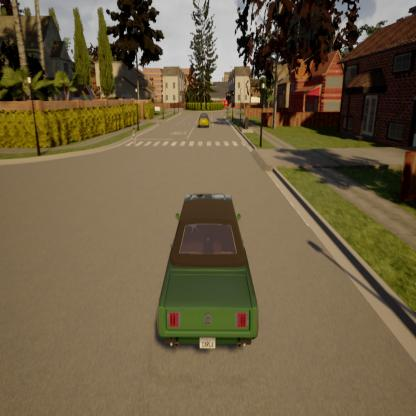Cars: (152, 189, 262, 359), (196, 112, 211, 129)
Pedestrian: (130, 125, 138, 147)
